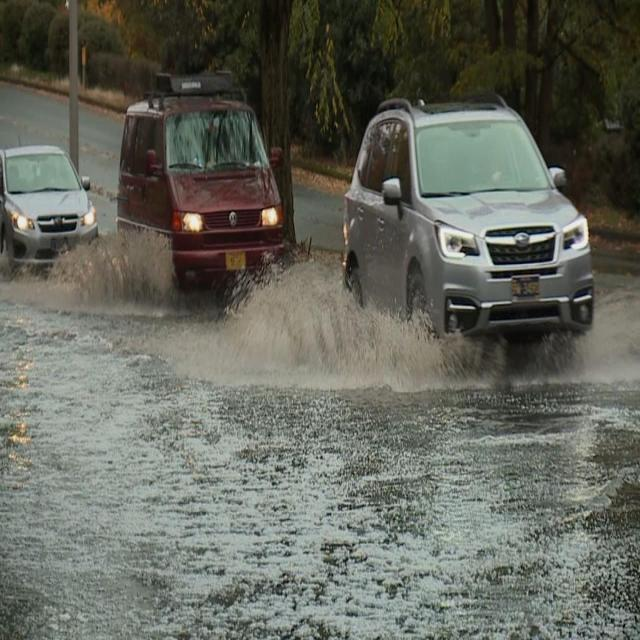Car: (340, 97, 596, 357), (0, 140, 100, 284)
Van: (117, 66, 288, 306)
